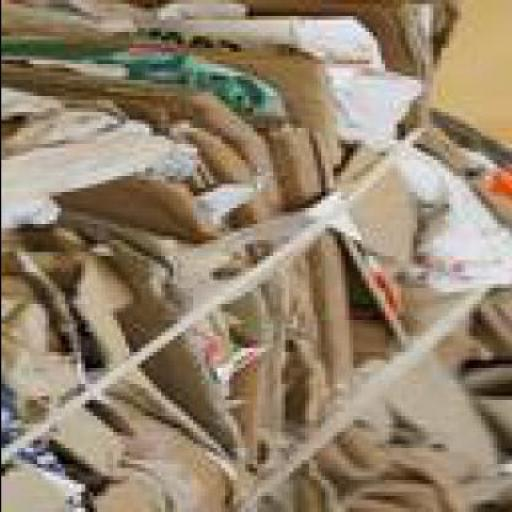cardboard: (2, 3, 510, 512), (4, 16, 469, 511), (4, 4, 452, 344), (4, 71, 300, 511), (4, 212, 256, 488), (4, 288, 236, 511), (4, 240, 224, 468), (300, 359, 511, 511), (407, 2, 511, 229), (428, 292, 511, 449), (260, 4, 436, 76)
